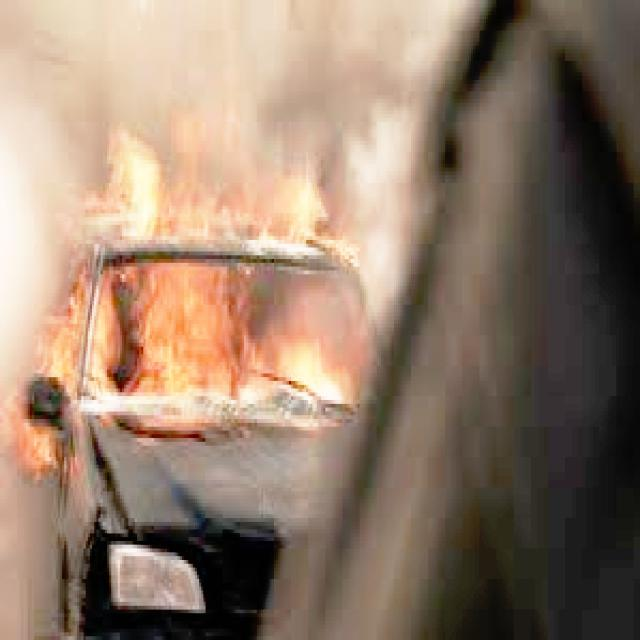api: (46, 127, 367, 432)
